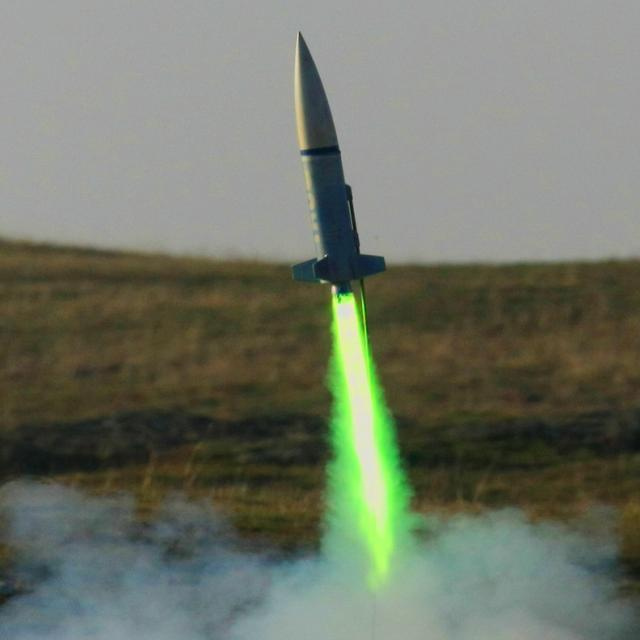Missile: (287, 27, 385, 295)
